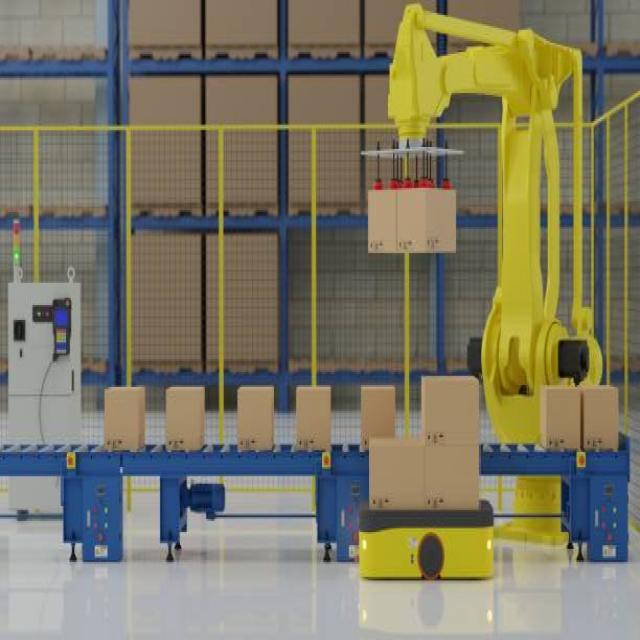Robotic-arm: (376, 1, 609, 458)
